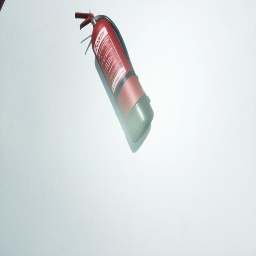FireExtinguisher ]: (75, 9, 154, 143)
